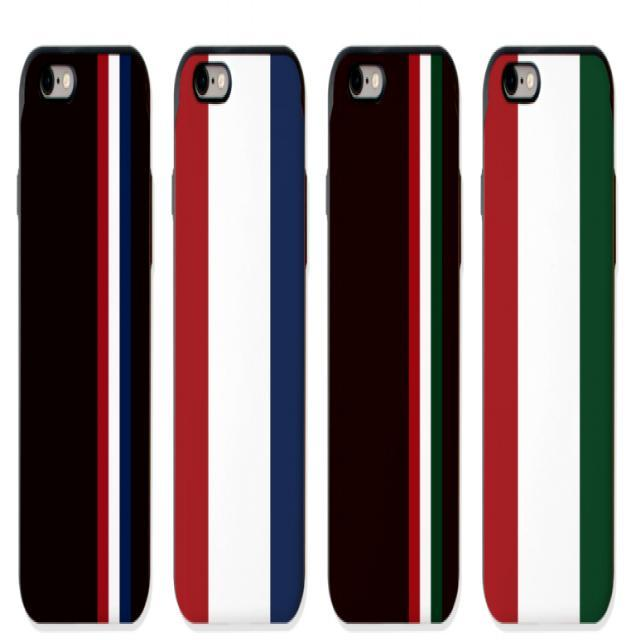phone: (324, 46, 462, 623), (479, 44, 616, 624), (17, 44, 153, 626), (172, 46, 308, 626)
